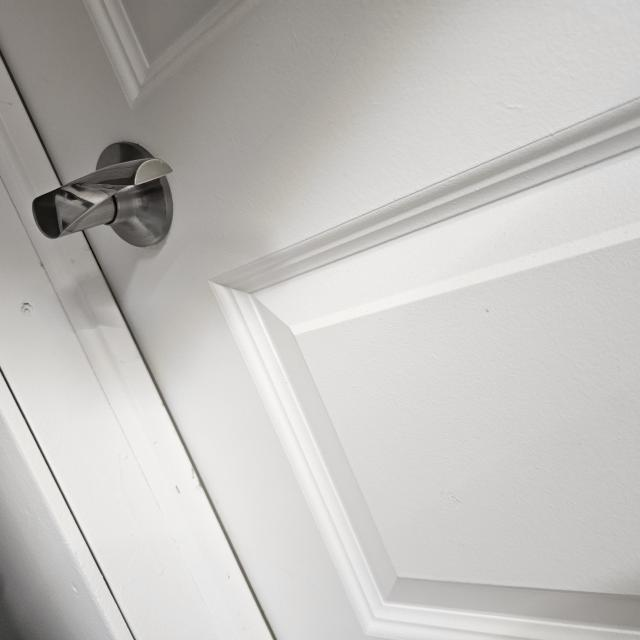door-handle: (32, 142, 172, 246)
